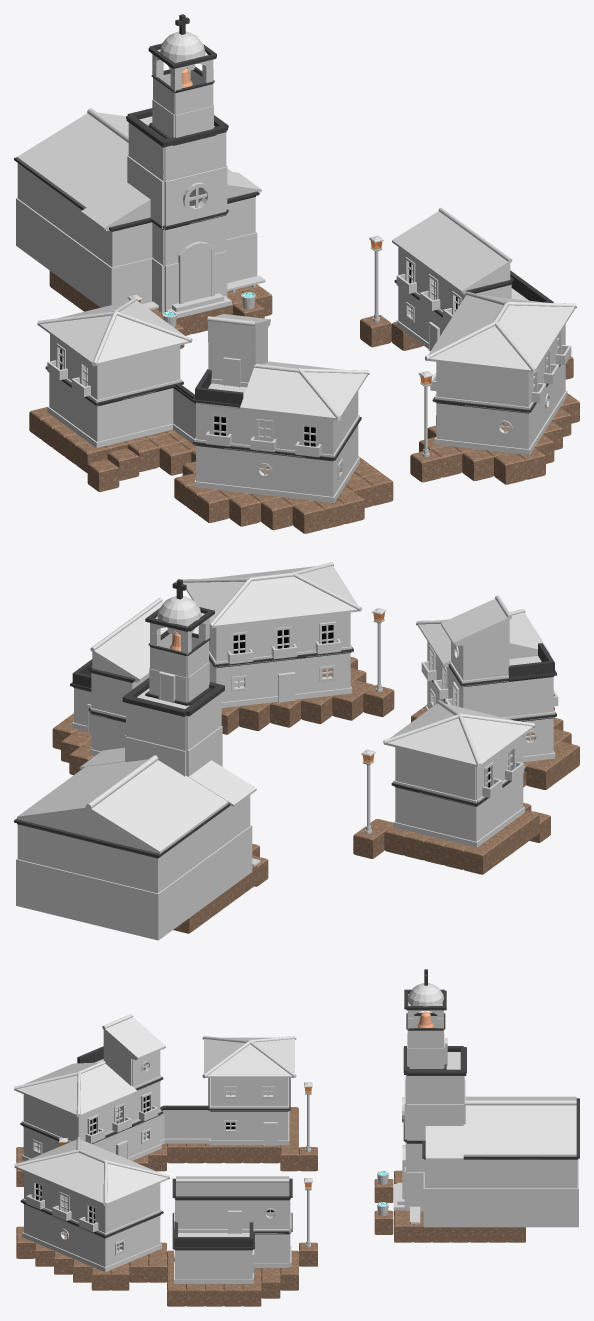
Rendered from Environment.fbx.
3 views of the same model, one above another, from view 1: azimuth 30°, elevation 25°; view 2: azimuth 150°, elevation 25°; view 3: azimuth 270°, elevation 25° (orthographic). The views are drawn at different scales.
Visible parts, largest first — view 1: 12_UF_Corner.019, 02_GF_Wall.017, 02_GF_Wall.010, 02_GF_Wall.012, 12_UF_Corner.057, 14_R_Center.016, 12_UF_Corner.041, 02_GF_Wall.018, 12_UF_Corner.063, 12_UF_Corner.017, 14_R_Center.015, 14_R_Center.045 (+59 smaller); view 2: 12_UF_Corner.018, 02_GF_Wall.013, 02_GF_Wall.010, 14_R_Center.016, 12_UF_Corner.022, 02_GF_Wall.016, 14_R_Center.015, 14_R_Center.007, 12_UF_Corner.055, 02_GF_Wall.018, 14_R_Center.071, 12_UF_Corner.043 (+56 smaller); view 3: 02_GF_Wall.009, 02_GF_Wall.019, 12_UF_Corner.022, 12_UF_Corner.017, 14_R_Center.007, 14_R_Center.015, 14_R_Center.016, 12_UF_Corner.065, 12_UF_Corner.054, 14_R_Center.071, 12_UF_Corner.049, 14_R_Center.074 (+61 smaller).
Part boxes in pixels (x1,y1,x2,y2): 12_UF_Corner.019: [87, 217, 152, 307]; 02_GF_Wall.017: [164, 127, 226, 228]; 02_GF_Wall.010: [39, 176, 88, 297]; 02_GF_Wall.012: [164, 211, 226, 311]; 12_UF_Corner.057: [71, 385, 139, 447]; 14_R_Center.016: [17, 108, 128, 175]; 12_UF_Corner.041: [286, 437, 348, 502]; 02_GF_Wall.018: [126, 116, 164, 228]; 12_UF_Corner.063: [481, 401, 542, 455]; 12_UF_Corner.017: [226, 191, 259, 283]; 14_R_Center.015: [40, 125, 128, 192]; 14_R_Center.045: [240, 361, 313, 414]; 12_UF_Corner.018: [116, 837, 183, 940]; 02_GF_Wall.013: [57, 829, 117, 930]; 02_GF_Wall.010: [181, 804, 229, 922]; 14_R_Center.016: [17, 787, 182, 853]; 12_UF_Corner.022: [14, 818, 58, 915]; 02_GF_Wall.016: [125, 698, 186, 776]; 14_R_Center.015: [40, 771, 205, 836]; 14_R_Center.007: [63, 755, 228, 820]; 12_UF_Corner.055: [434, 791, 500, 847]; 02_GF_Wall.018: [186, 687, 223, 776]; 14_R_Center.071: [235, 570, 307, 622]; 12_UF_Corner.043: [449, 639, 508, 686]; 02_GF_Wall.009: [463, 1156, 538, 1227]; 02_GF_Wall.019: [407, 1072, 463, 1140]; 12_UF_Corner.022: [539, 1139, 579, 1227]; 12_UF_Corner.017: [422, 1140, 463, 1227]; 14_R_Center.007: [463, 1096, 501, 1156]; 14_R_Center.015: [501, 1096, 538, 1156]; 14_R_Center.016: [539, 1096, 576, 1156]; 12_UF_Corner.065: [76, 1223, 134, 1272]; 12_UF_Corner.054: [208, 1091, 249, 1145]; 14_R_Center.071: [46, 1149, 136, 1191]; 12_UF_Corner.049: [172, 1230, 213, 1283]; 14_R_Center.074: [73, 1160, 137, 1205].
Size of the model in its own units: 2300 by 1484 by 3003.
13 materials, 1 textured.
